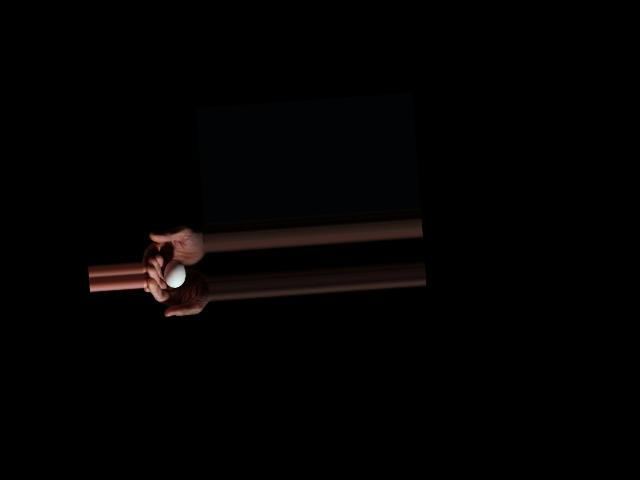egg: (162, 259, 186, 289)
